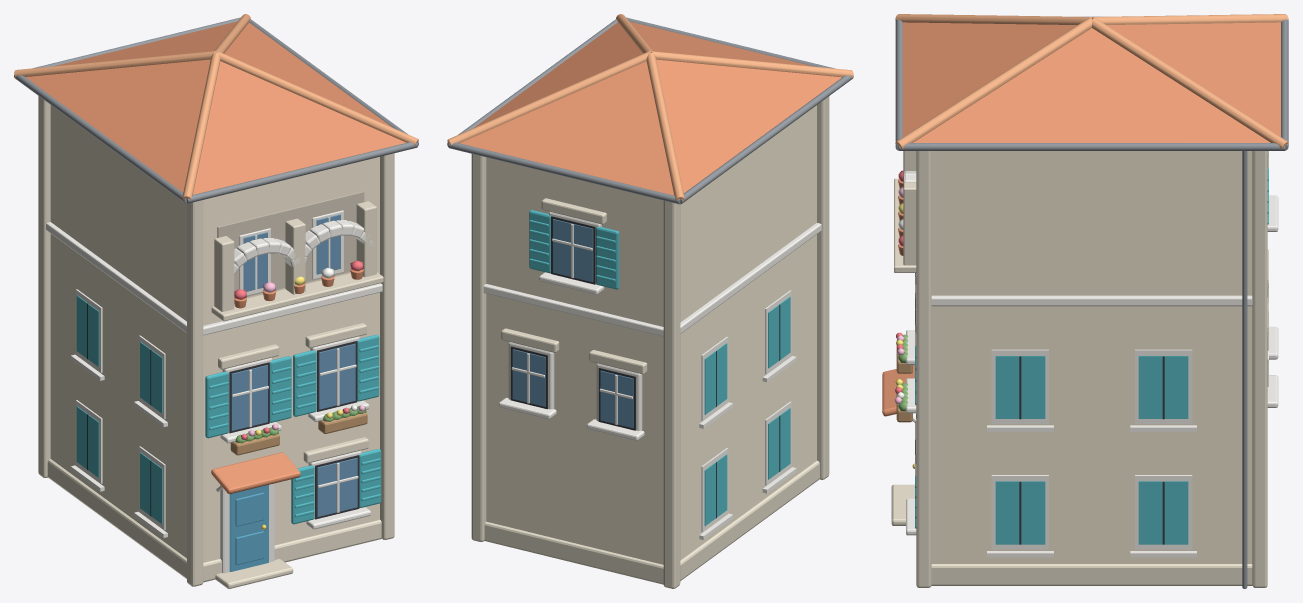
Rendered from house_d.fbx.
3 views of the same model, side by side, from view 1: azimuth 30°, elevation 25°; view 2: azimuth 150°, elevation 25°; view 3: azimuth 270°, elevation 25° (orthographic). The views are drawn at different scales.
Visible parts, largest first — view 1: Visual; view 2: Visual; view 3: Visual.
Part boxes in pixels (x1,y1,x2,y2): Visual: (14,14,418,588); Visual: (447,14,853,588); Visual: (882,14,1288,588).
Size of what is drawn, in the model's own units: 647 by 1195 by 851.
